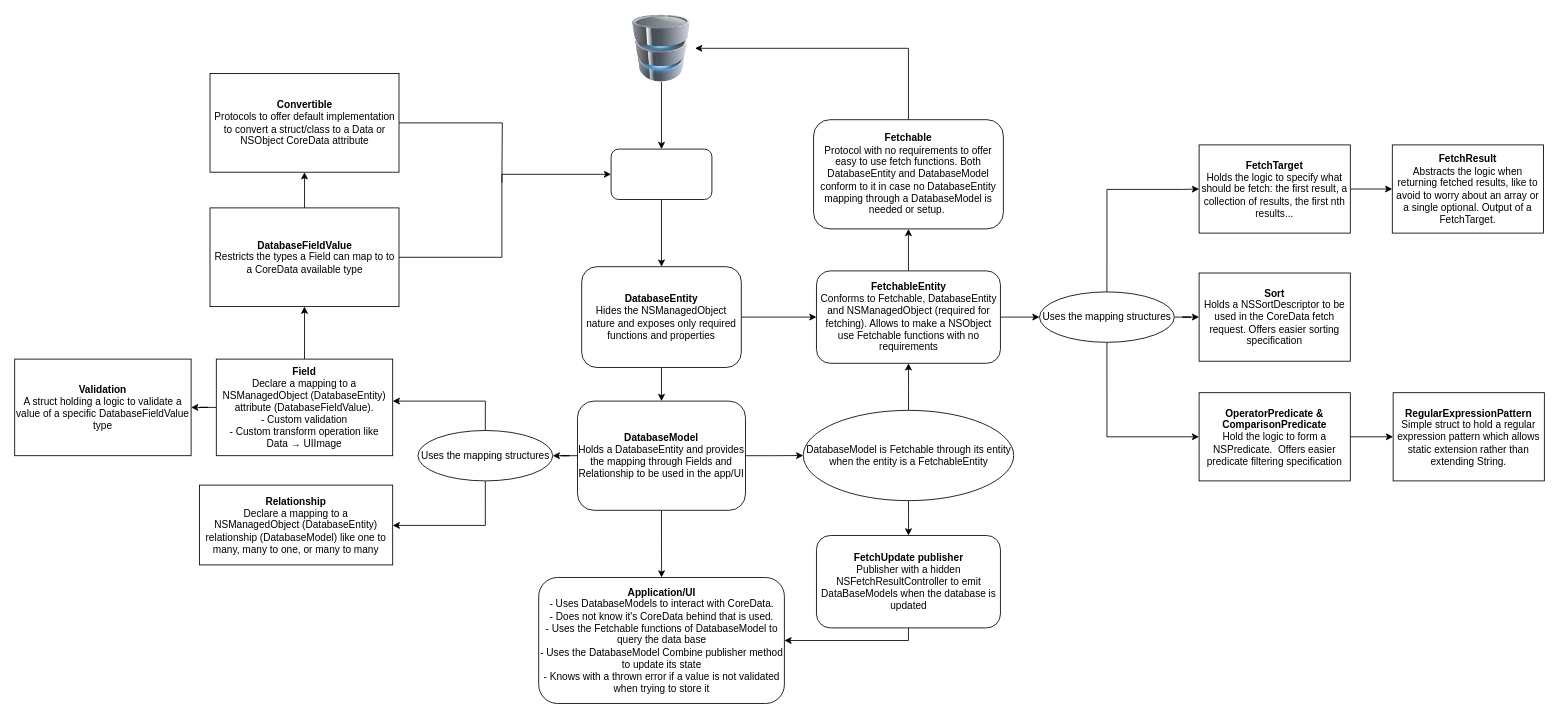
Some shapes in this 1559 by 718 pixel diagram are drawn without their labels. Each missing label, with the centre of its shape:
"CoreData" goes at pixel 661 47.
"NSManagedObject" goes at pixel 661 174.
